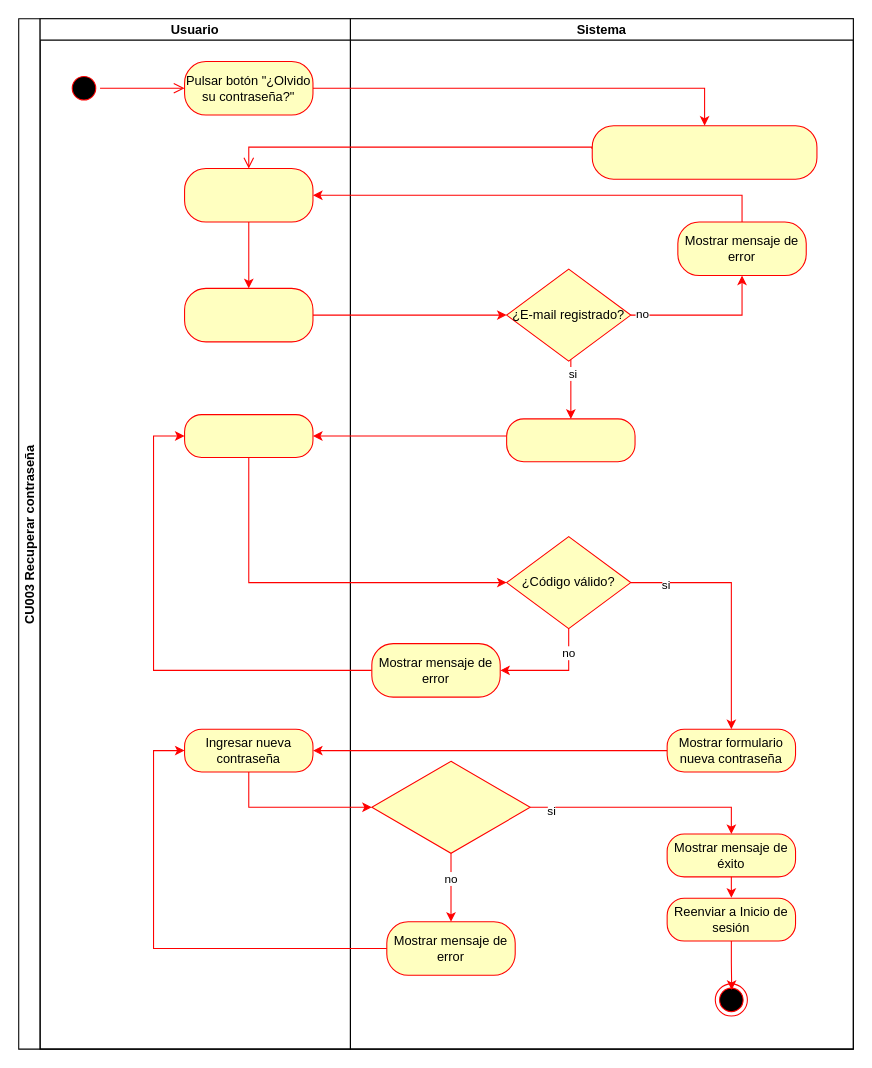
Some shapes in this 872 by 1068 pixel diagram are drawn without their labels. The shapes that lost their labels are listed below. From the top down, each one's centre as x and y in pixels, then its label:
At (x=704, y=152): "Mostrar formulario de Recuperar contraseña".
At (x=248, y=194): "Digitar E-mail".
At (x=248, y=314): "Pulsar botón".
At (x=248, y=435): "Ingresar código".
At (x=570, y=440): "Enviar código al E-mail".
At (x=450, y=806): "¿Contraseña válida?".
